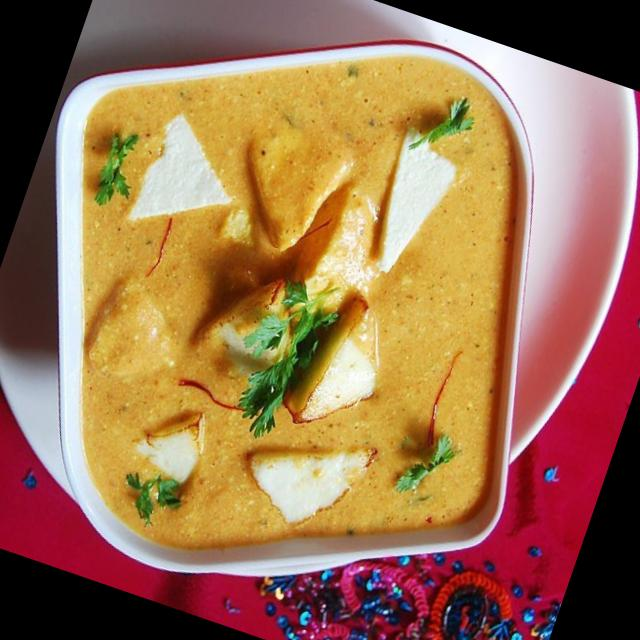ShahiPaneer: (0, 0, 617, 639)
